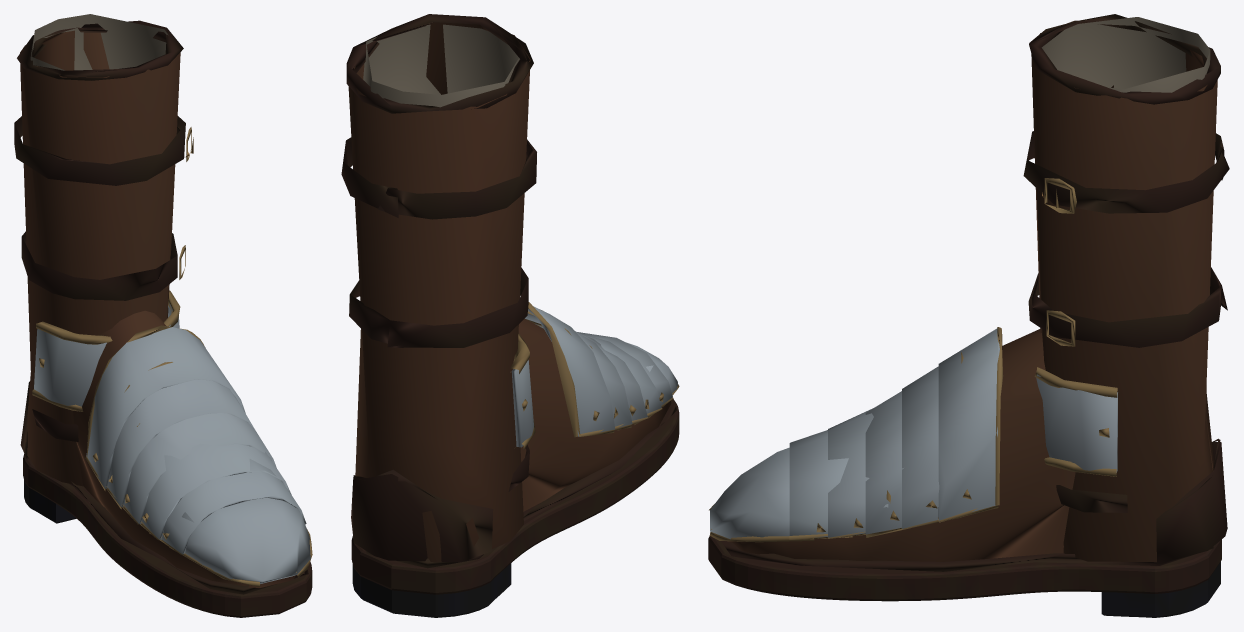
3 renders of one model, left to right at view 1: azimuth 30°, elevation 25°; view 2: azimuth 150°, elevation 25°; view 3: azimuth 270°, elevation 25°, orthographic. The views are drawn at different scales.
Visible parts, largest first — view 1: oiled strap leather, hammered plate; view 2: oiled strap leather, hammered plate; view 3: oiled strap leather, hammered plate.
Part boxes in pixels (bbox=[...]): oiled strap leather: bbox=[14, 14, 312, 617]; hammered plate: bbox=[32, 127, 312, 586]; oiled strap leather: bbox=[341, 14, 679, 617]; hammered plate: bbox=[510, 302, 679, 449]; oiled strap leather: bbox=[708, 14, 1229, 617]; hammered plate: bbox=[709, 178, 1118, 542].
Bounding box in the file's own units: 0.1084 × 0.3188 × 0.2782.
